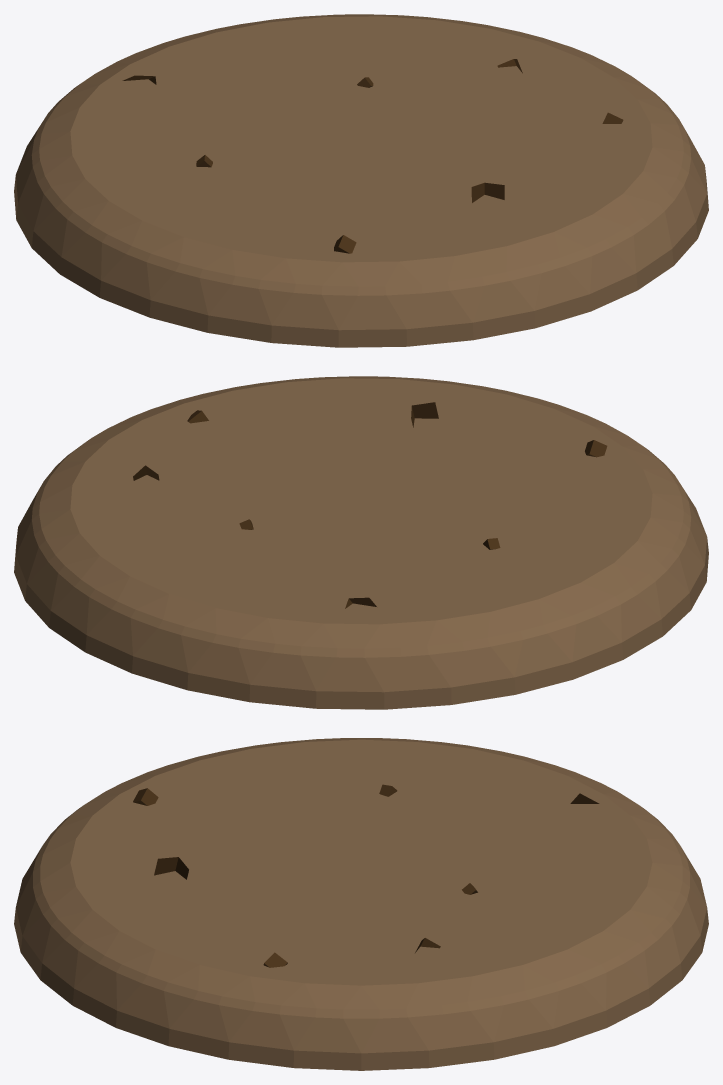
The model's file is CookieBulletModel.fbx.
3 renders of one model, top to bottom at view 1: azimuth 30°, elevation 25°; view 2: azimuth 150°, elevation 25°; view 3: azimuth 270°, elevation 25°, orthographic.
Parts seen in each view (by area): view 1: Sphere, chocolateChips; view 2: Sphere, chocolateChips; view 3: Sphere, chocolateChips.
Part boxes in pixels (left/top/right/bottom): Sphere: left=14, top=14, right=708, bottom=347; chocolateChips: left=122, top=59, right=623, bottom=253; Sphere: left=14, top=376, right=708, bottom=709; chocolateChips: left=133, top=402, right=607, bottom=608; Sphere: left=14, top=738, right=708, bottom=1070; chocolateChips: left=133, top=784, right=599, bottom=967.
Size of the model in its own units: 200 by 25.09 by 200.
